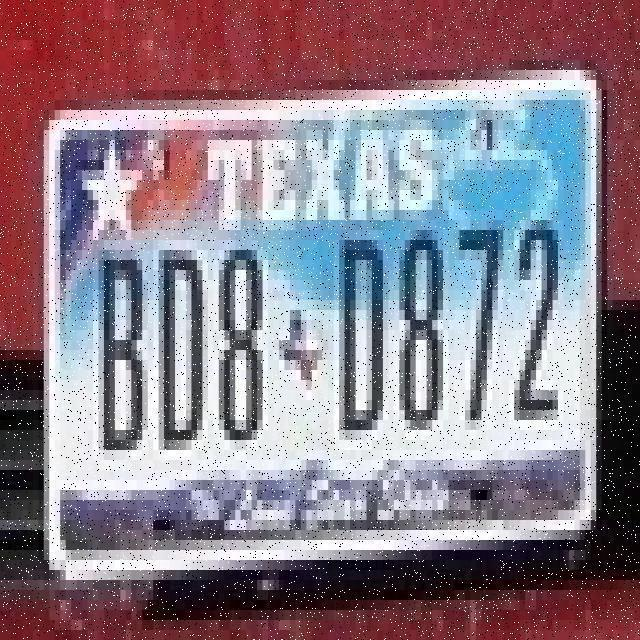License Plate: (39, 67, 602, 571)
